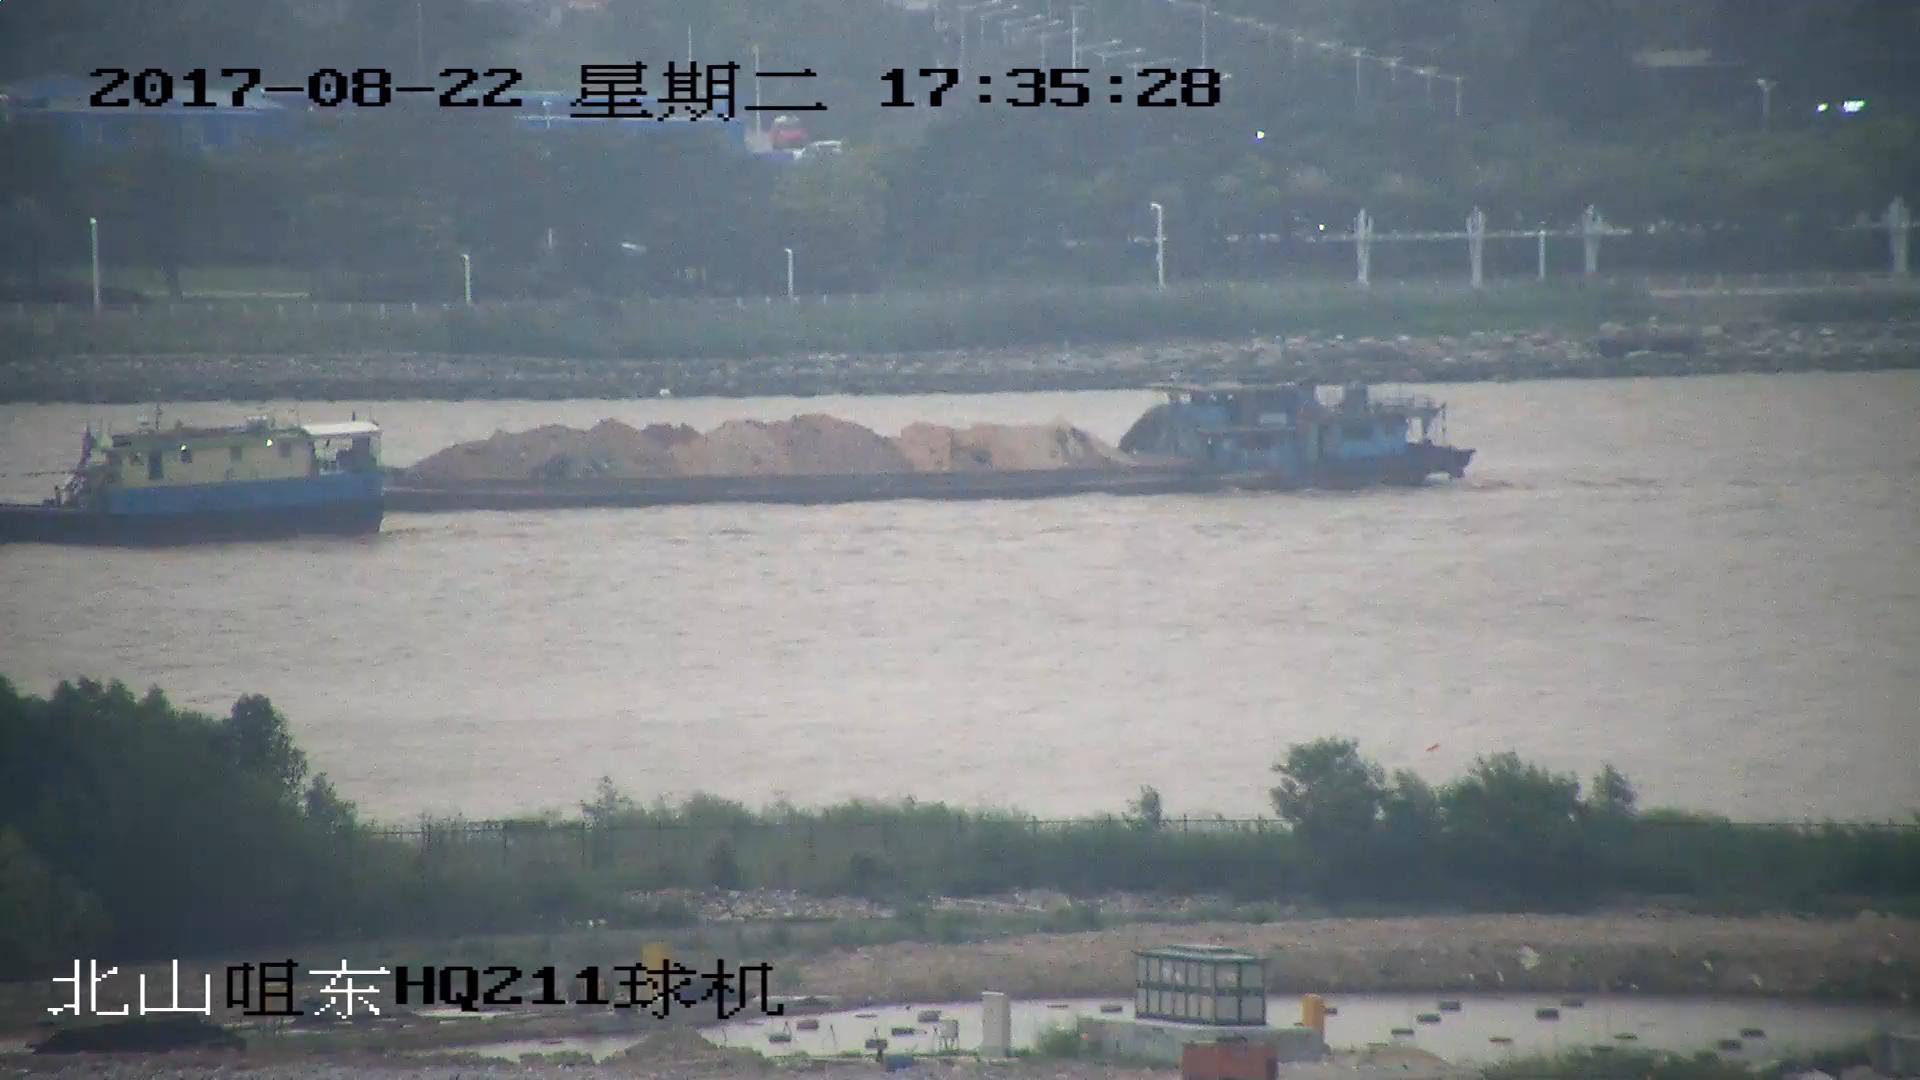Ship: (3, 372, 1477, 502), (3, 419, 400, 545)
